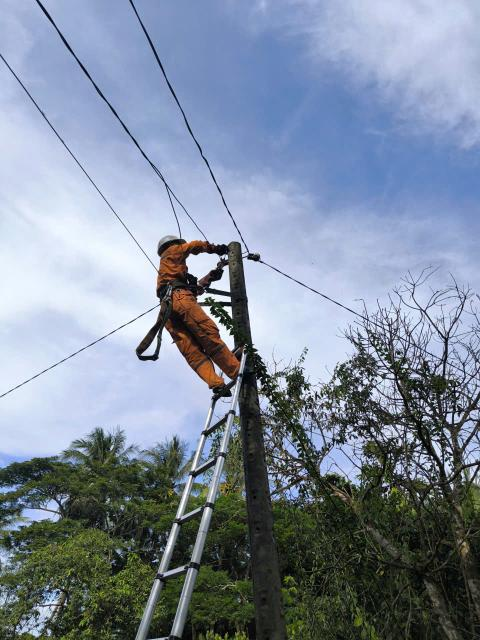gloves: (195, 268, 229, 286), (210, 242, 236, 259)
harness: (144, 274, 200, 300)
helmet: (152, 230, 185, 252)
shoes: (226, 363, 258, 378), (207, 380, 231, 396)
